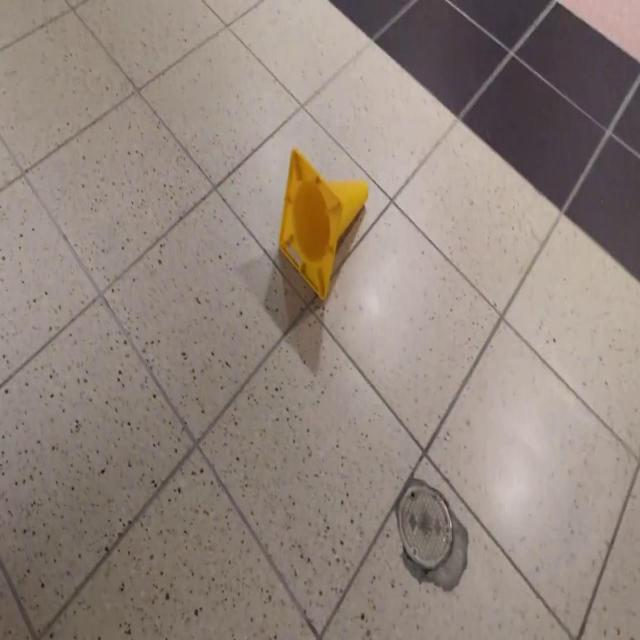frc_cone: (279, 146, 369, 303)
